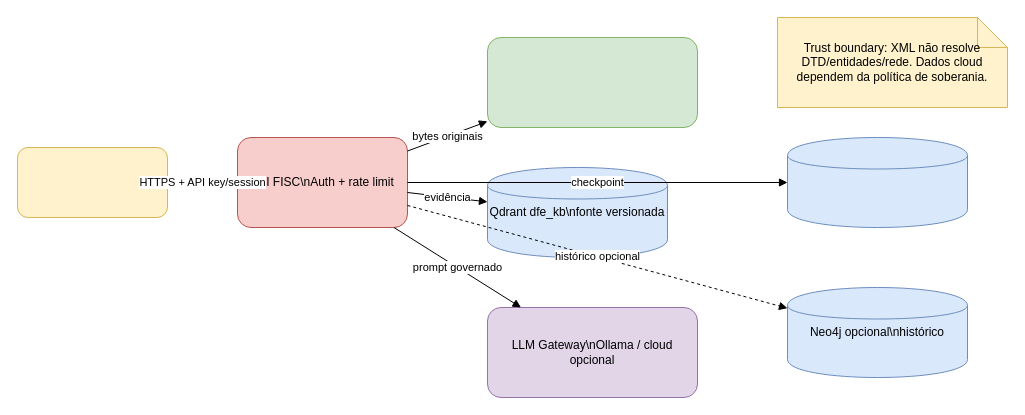
Image size: 1025x415. Some labels were removed from this diagram. Here are the shapes that lost their labels. From the top down, the centre of each, then its label:
At (x=592, y=82): "Ferramentas determinísticas\nparser/XSD/chave/XMLDSig".
At (x=92, y=182): "Cliente\nXML + contexto".
At (x=877, y=182): "PostgreSQL\ncheckpoint/config".
